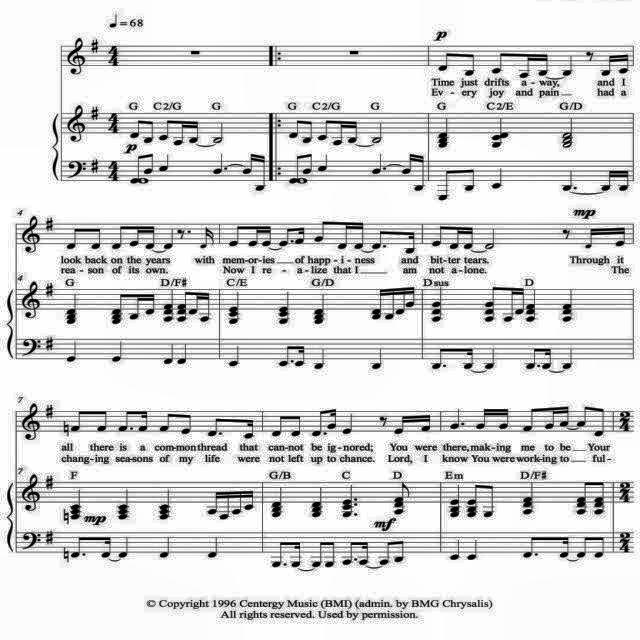Bass-clef: (20, 530, 38, 550), (22, 337, 38, 357), (68, 158, 82, 178)
Diez: (44, 404, 56, 420), (44, 336, 56, 352), (90, 37, 100, 55), (90, 106, 100, 122), (45, 216, 55, 232), (44, 282, 54, 298), (44, 474, 54, 490), (45, 530, 55, 546), (90, 158, 98, 174)
Eighth-note: (393, 480, 411, 516), (575, 480, 593, 516), (438, 169, 458, 201), (466, 485, 484, 519), (484, 286, 500, 322), (112, 293, 128, 325), (590, 406, 606, 438), (591, 480, 605, 516), (70, 410, 92, 432), (456, 168, 476, 192), (66, 227, 86, 250), (438, 52, 460, 72), (491, 54, 513, 74), (430, 225, 450, 247), (228, 225, 248, 247), (575, 406, 595, 428), (111, 226, 129, 250), (482, 484, 494, 520), (522, 408, 540, 432), (380, 540, 396, 566), (310, 542, 326, 568), (177, 291, 190, 323), (84, 227, 102, 250), (158, 413, 178, 433), (576, 536, 594, 558), (271, 540, 285, 568), (459, 52, 475, 76), (286, 414, 302, 438), (130, 154, 142, 184), (288, 155, 300, 185), (272, 416, 290, 436), (158, 119, 174, 141), (590, 536, 606, 558), (314, 222, 331, 242), (312, 409, 324, 437), (392, 540, 406, 564), (342, 542, 356, 566), (324, 540, 336, 568), (288, 120, 304, 140), (318, 120, 334, 140), (372, 230, 388, 250), (299, 153, 313, 175), (278, 345, 292, 367), (94, 410, 108, 432), (118, 410, 132, 432), (523, 537, 537, 559), (71, 536, 85, 558), (130, 120, 146, 138), (142, 120, 154, 144), (302, 120, 314, 144), (278, 228, 294, 246), (179, 414, 193, 434), (207, 418, 221, 438), (526, 347, 538, 369), (433, 348, 445, 368), (145, 153, 155, 174)
Eighth-rest: (560, 228, 572, 240), (177, 228, 187, 240), (379, 416, 389, 428), (585, 50, 595, 61)
Full-note: (138, 176, 150, 184), (298, 177, 310, 185)
Full-rest: (343, 49, 365, 55), (187, 49, 206, 55)
Half-note: (562, 115, 574, 149), (212, 122, 224, 144), (484, 228, 496, 248), (372, 123, 382, 145)
Quarter-note: (490, 115, 510, 148), (521, 481, 535, 515), (116, 489, 130, 521), (157, 488, 171, 520), (269, 486, 283, 518), (278, 290, 290, 326), (162, 289, 174, 323), (525, 289, 537, 323), (562, 289, 574, 323), (341, 484, 353, 518), (431, 286, 442, 322), (66, 292, 78, 324), (228, 292, 240, 324), (314, 294, 326, 326), (70, 488, 82, 520), (312, 486, 324, 518), (450, 484, 460, 518), (438, 118, 449, 148), (158, 537, 172, 559), (314, 346, 326, 369), (561, 169, 573, 191), (66, 341, 78, 363), (162, 343, 174, 365), (176, 343, 188, 365), (228, 345, 240, 367), (562, 347, 574, 369), (118, 536, 130, 558), (449, 409, 461, 431), (371, 152, 382, 175), (212, 153, 224, 174), (484, 348, 496, 369), (111, 341, 122, 363), (342, 413, 353, 435), (562, 56, 574, 76), (491, 168, 503, 188), (208, 536, 218, 560), (163, 228, 174, 248), (372, 347, 382, 369), (467, 540, 478, 560), (158, 155, 170, 173), (451, 540, 461, 560), (317, 153, 327, 171), (109, 13, 119, 29)
Sixteenth-note: (586, 227, 610, 249), (518, 53, 538, 79), (475, 407, 497, 429), (338, 220, 354, 250), (254, 153, 266, 191), (414, 153, 426, 191), (130, 292, 146, 320), (371, 288, 385, 320), (504, 286, 516, 322), (351, 220, 365, 250), (174, 120, 190, 146), (332, 120, 348, 146), (208, 491, 225, 515), (608, 228, 628, 248), (601, 54, 619, 76), (551, 536, 569, 558), (288, 540, 302, 568), (534, 52, 550, 76), (449, 226, 465, 250), (140, 224, 156, 248), (199, 290, 211, 322), (384, 288, 396, 320), (494, 408, 510, 432), (401, 153, 419, 174), (198, 227, 214, 250), (395, 414, 413, 434), (218, 490, 230, 520), (242, 153, 258, 175), (602, 169, 618, 191), (614, 169, 630, 191), (129, 225, 145, 247), (185, 120, 199, 144), (189, 291, 203, 315), (544, 406, 558, 429), (614, 54, 630, 74), (142, 293, 156, 315), (241, 417, 255, 439), (98, 536, 112, 558), (556, 405, 570, 427), (515, 285, 525, 315), (247, 226, 261, 247), (346, 120, 358, 144), (462, 226, 474, 250), (404, 231, 416, 255), (396, 288, 406, 316), (137, 411, 149, 434), (418, 413, 432, 432), (294, 345, 306, 367), (462, 347, 474, 369), (540, 348, 552, 370), (243, 489, 255, 511), (358, 541, 369, 565), (327, 408, 339, 429), (233, 490, 243, 514), (407, 286, 417, 308), (294, 227, 306, 245), (262, 226, 272, 247)
Treble-clef: (21, 214, 44, 253), (20, 473, 42, 511), (66, 36, 86, 76), (66, 104, 86, 142), (20, 281, 40, 319), (22, 403, 40, 441)
